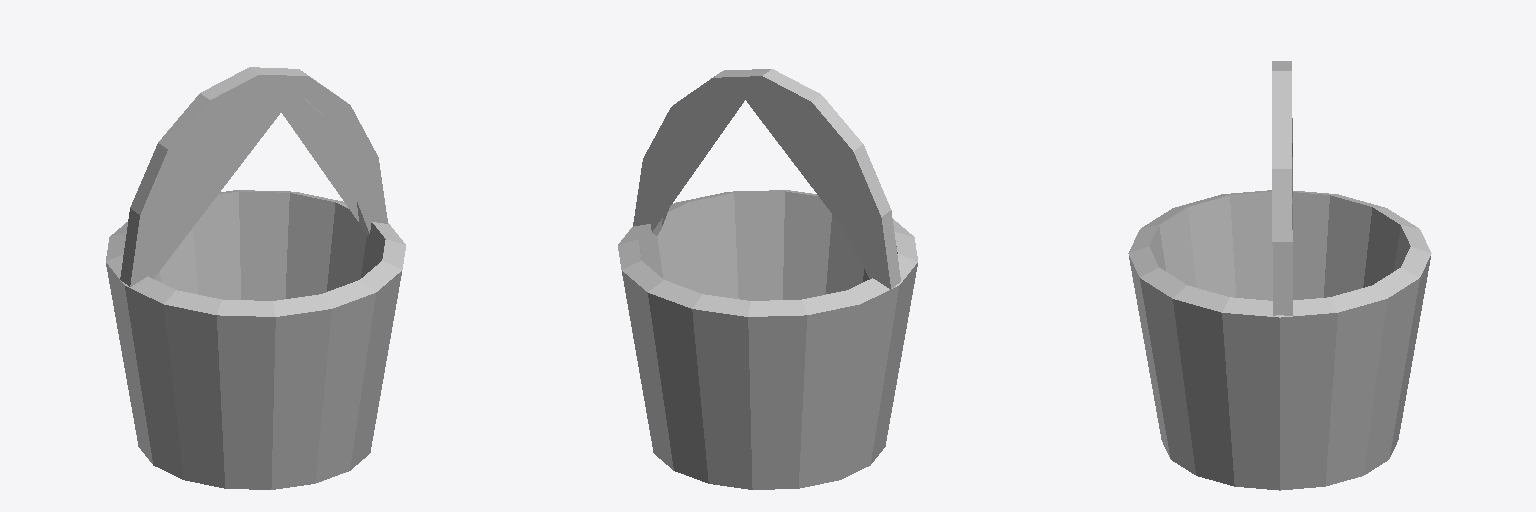
File: pail.obj
3 renders of one model, left to right at view 1: azimuth 30°, elevation 25°; view 2: azimuth 150°, elevation 25°; view 3: azimuth 270°, elevation 25°, orthographic.
Visible parts, largest first — view 1: Pail_Cylinder.001, Handle_Cylinder.002; view 2: Pail_Cylinder.001, Handle_Cylinder.002; view 3: Pail_Cylinder.001, Handle_Cylinder.002.
Part boxes in pixels (x1,y1,x2,y2): Pail_Cylinder.001: (106,191,405,489); Handle_Cylinder.002: (107,67,405,489); Pail_Cylinder.001: (618,190,917,489); Handle_Cylinder.002: (622,69,900,487); Pail_Cylinder.001: (1128,190,1431,486); Handle_Cylinder.002: (1132,61,1430,490).
Size of the model in its own units: 2 by 2.68 by 2.